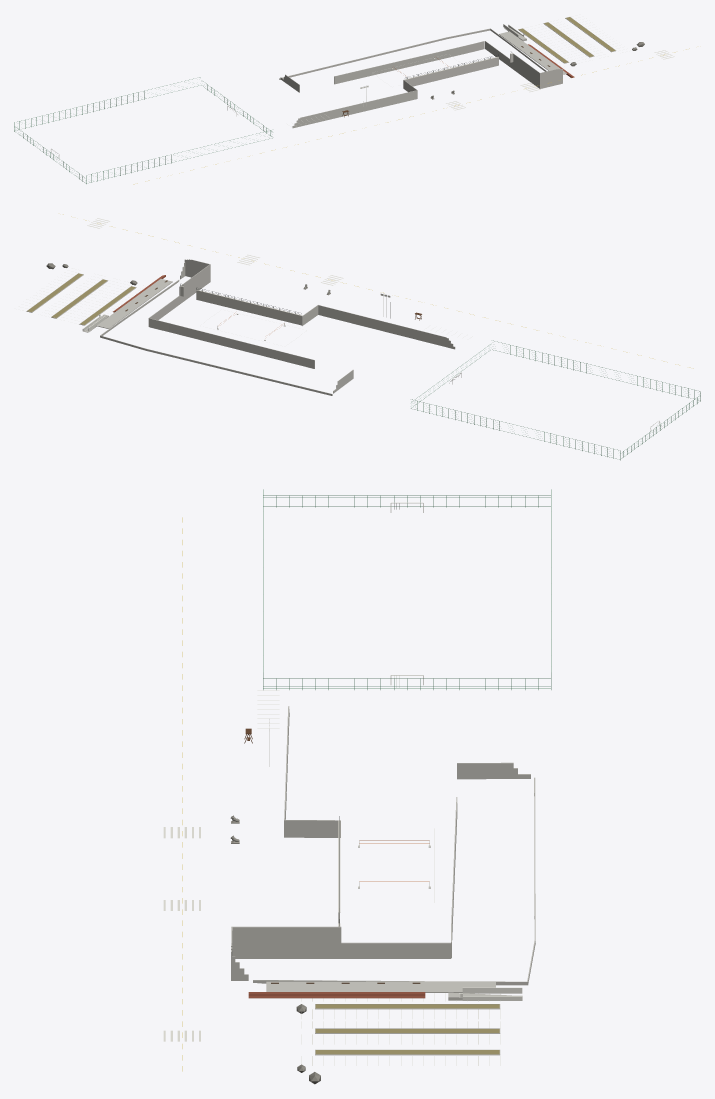
The picture shows the model from 3 angles, top to bottom: view 1: azimuth 30°, elevation 25°; view 2: azimuth 150°, elevation 25°; view 3: azimuth 270°, elevation 25°; orthographic projection. The views are drawn at different scales.
Parts seen in each view (by area): view 1: prop_step-walls, prop_field-fence, prop_court-retaining, prop_parking-islands, prop_entrance-stairs, prop_avenue-lines; view 2: prop_step-walls, prop_field-fence, prop_court-retaining, prop_parking-islands, prop_entrance-stairs, prop_avenue-lines; view 3: prop_step-walls, prop_parking-islands, prop_field-fence, prop_entrance-stairs, step_entrance-stairs, prop_parking-lines, prop_ramp-walls.
Boxes of the visible parts, left/top/right/bottom form: prop_step-walls: left=279, top=28, right=562, bottom=128; prop_field-fence: left=14, top=77, right=272, bottom=183; prop_court-retaining: left=404, top=53, right=513, bottom=86; prop_parking-islands: left=518, top=17, right=644, bottom=66; prop_entrance-stairs: left=499, top=31, right=566, bottom=74; prop_avenue-lines: left=133, top=48, right=689, bottom=184; prop_step-walls: left=100, top=259, right=455, bottom=395; prop_field-fence: left=411, top=340, right=700, bottom=460; prop_court-retaining: left=180, top=286, right=302, bottom=325; prop_parking-islands: left=26, top=263, right=137, bottom=325; prop_entrance-stairs: left=97, top=278, right=172, bottom=328; prop_avenue-lines: left=63, top=214, right=693, bottom=368; prop_step-walls: left=231, top=706, right=535, bottom=985; prop_parking-islands: left=296, top=1004, right=500, bottom=1084; prop_field-fence: left=263, top=489, right=551, bottom=689; prop_entrance-stairs: left=266, top=981, right=495, bottom=992; step_entrance-stairs: left=248, top=992, right=425, bottom=998; prop_parking-lines: left=257, top=690, right=500, bottom=1065; prop_ramp-walls: left=448, top=987, right=522, bottom=1000.
Size of the model in its own units: 311 by 19.69 by 87.8.
